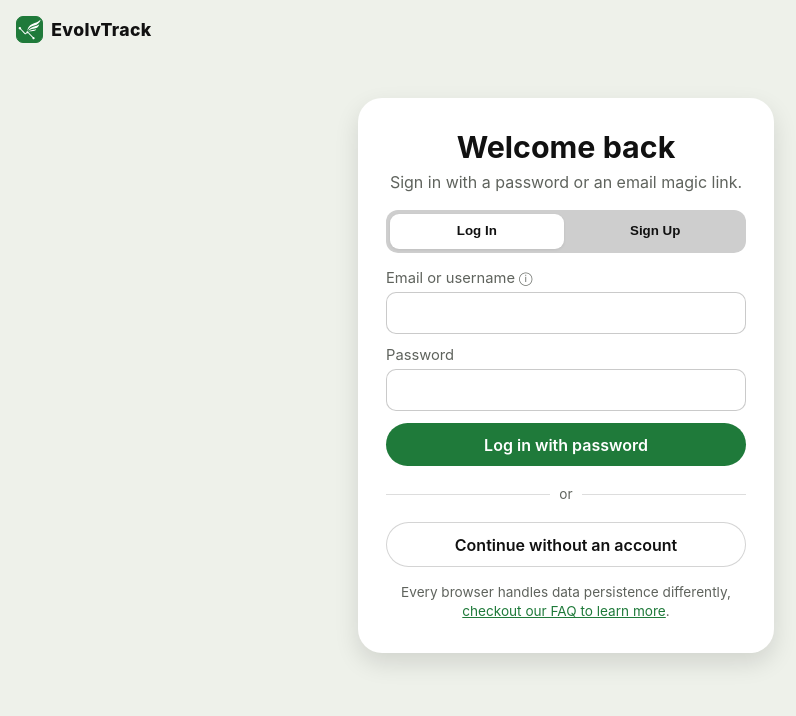
AuthTabs — forgot-password panel › opens an inline panel with the email pre-filled from the identifier
In the field labelled "Email or username ⓘ": [566, 313] box [386,292,746,334], type "alice@example.com"
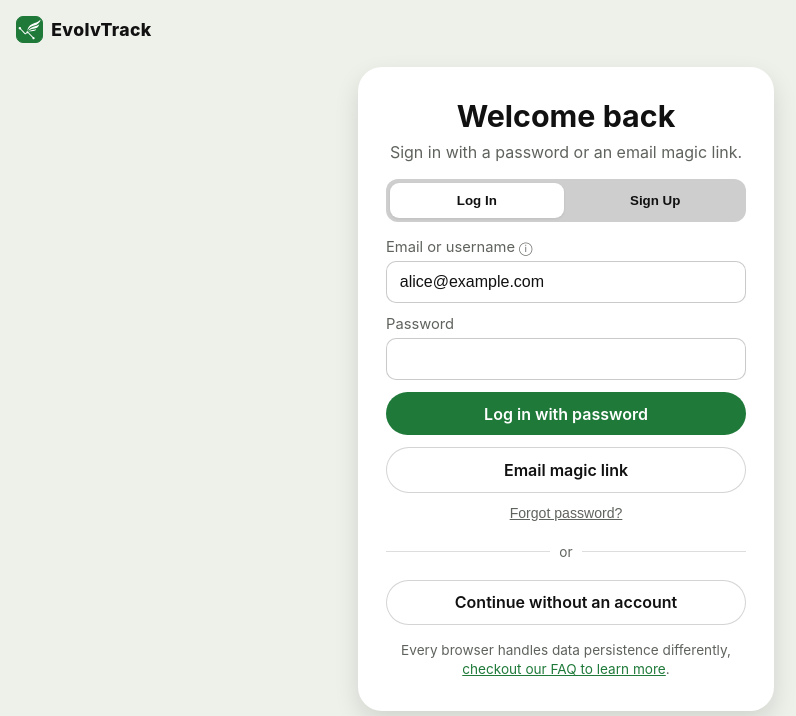
Click the button "Forgot password?": [566, 512] box [503,501,629,524]
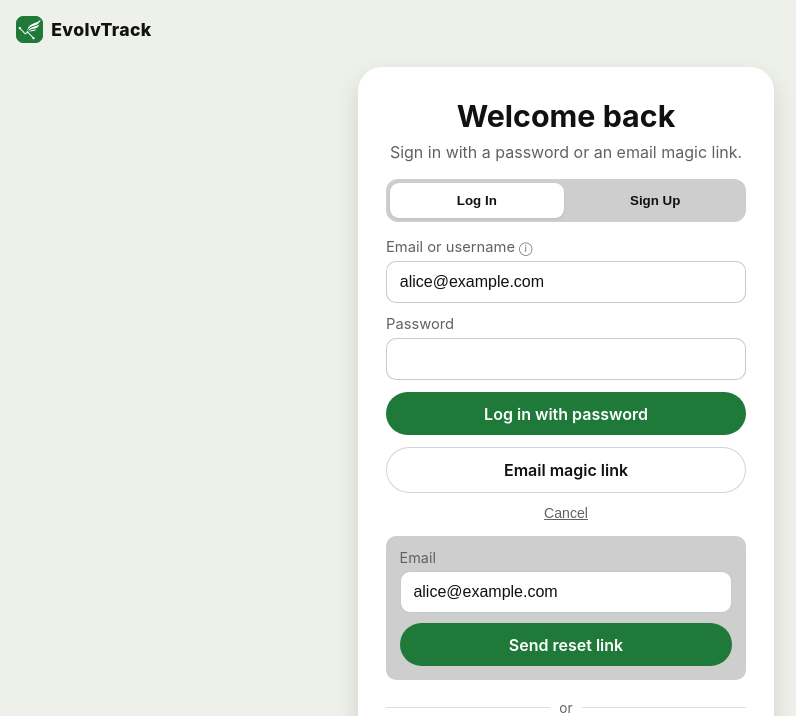
Now the element with id "forgot-panel" is shown, box [386,536,746,680]
Now the field labelled "Email" holds "alice@example.com", box [400,571,732,614]
